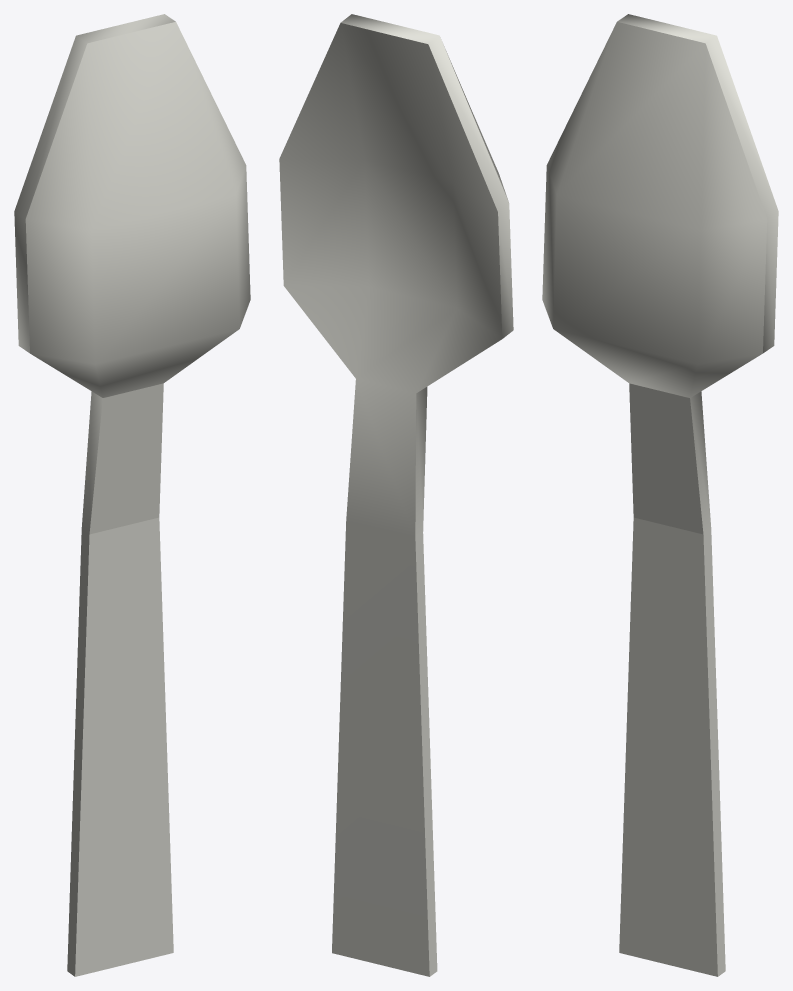
The model's file is 0011_Spoon.glb.
3 views of the same model, side by side, from view 1: azimuth 30°, elevation 25°; view 2: azimuth 150°, elevation 25°; view 3: azimuth 330°, elevation 25° (orthographic).
Visible parts, largest first — view 1: part_0; view 2: part_0; view 3: part_0.
Boxes of the visible parts, box(x1,y1,x2,y2) form: part_0: box(14, 14, 250, 976); part_0: box(279, 14, 513, 976); part_0: box(542, 14, 778, 976).
Size of the model in its own units: 0.0294 by 0.1193 by 0.0117.
Materials: 1 (1 with a texture image).
